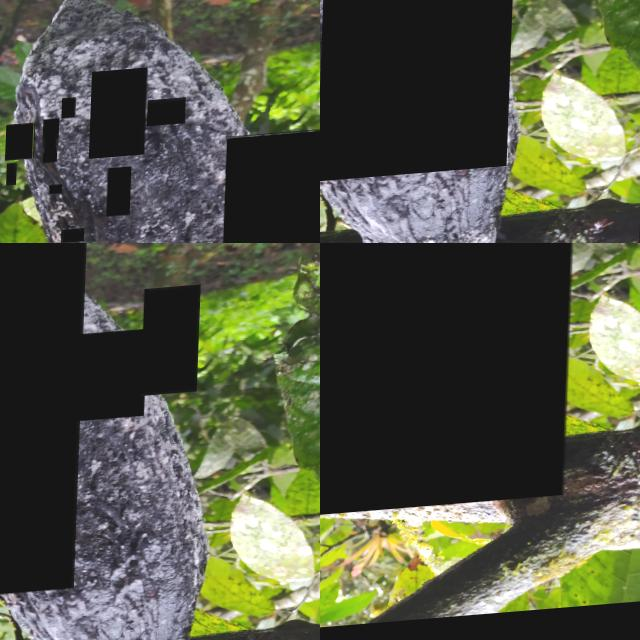Fitoftora: (320, 243, 581, 523)
Monilia: (0, 243, 87, 607)
Sana: (320, 0, 517, 186), (224, 138, 320, 243), (57, 336, 148, 429), (143, 293, 202, 404), (90, 74, 148, 164), (109, 172, 133, 222), (148, 104, 187, 132), (7, 127, 36, 164), (44, 123, 61, 152), (45, 142, 59, 167), (63, 102, 77, 123), (8, 167, 19, 189), (63, 233, 86, 243), (51, 189, 64, 198)
